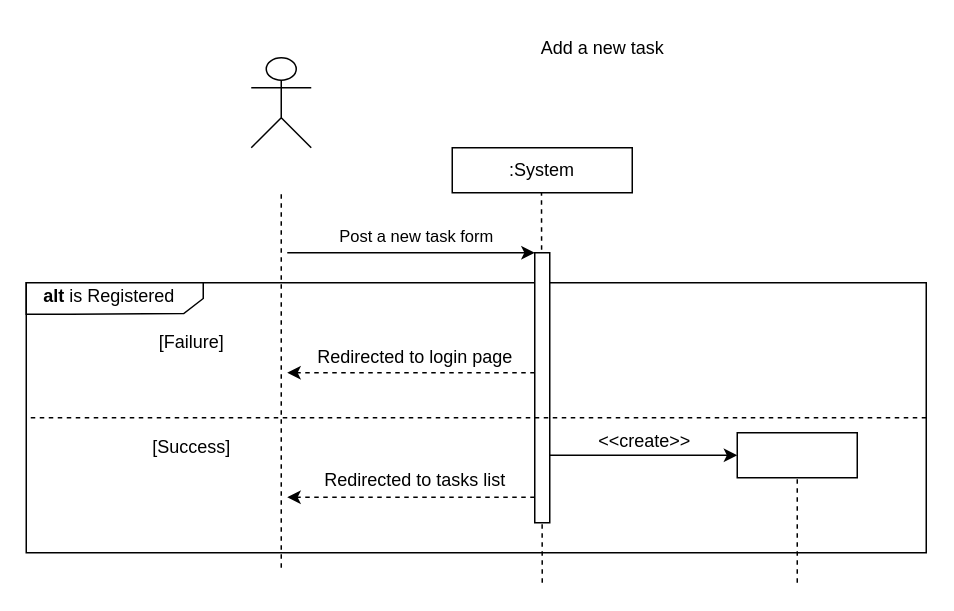
This 954x611 diagram has some shape labels left out. The centre of each missing label's shape, as x and y in pixels:
":Task" goes at [796,454].
"User" goes at [280,102].
